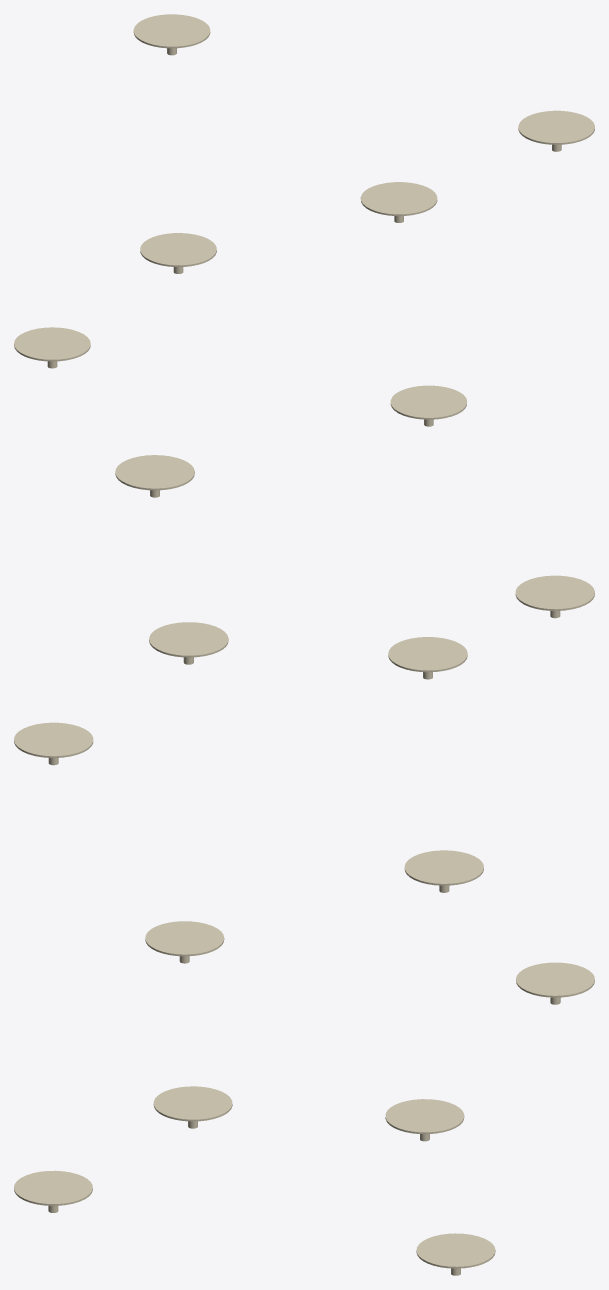
Rendered from centertable.glb.
The picture shows the model from 3 angles, top to bottom: view 1: azimuth 30°, elevation 25°; view 2: azimuth 150°, elevation 25°; view 3: azimuth 270°, elevation 25°; orthographic projection. The views are drawn at different scales.
Parts seen in each view (by area): view 1: circletable; view 2: circletable; view 3: circletable.
Part boxes in pixels (x1,y1,x2,y2): circletable: (14,14,594,426); circletable: (14,455,594,892); circletable: (14,921,594,1275).
Size of the model in its own units: 6.51 by 3.33 by 6.95.
